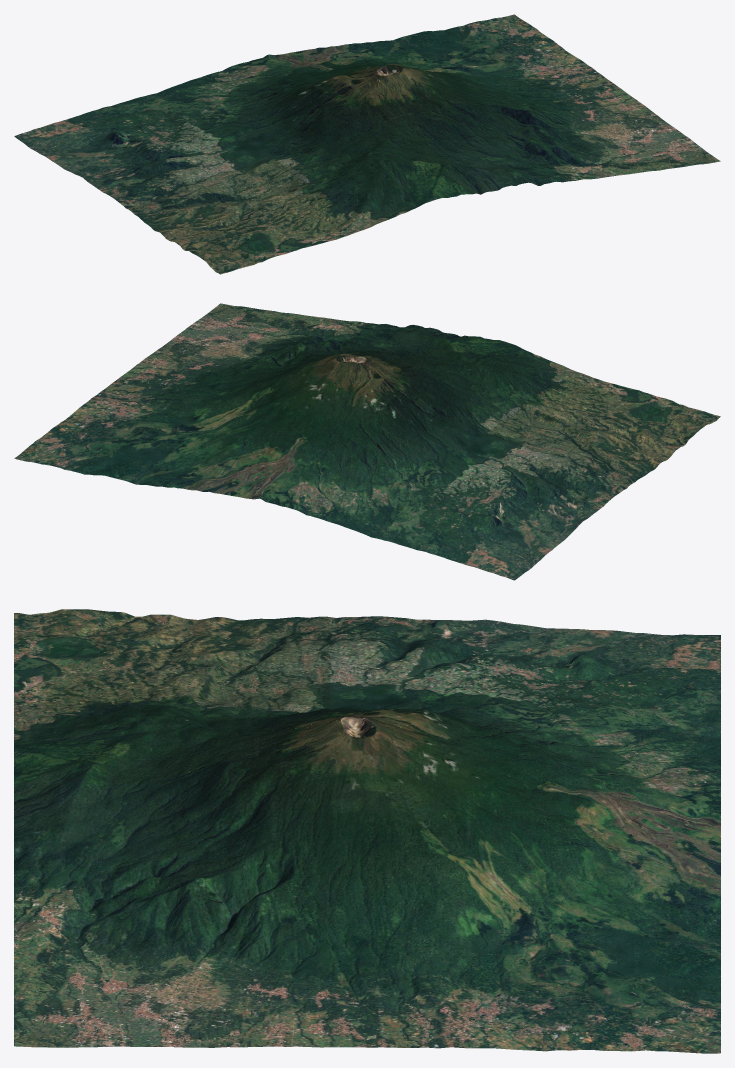
Rendered from mount-ceremai.glb.
3 renders of one model, top to bottom at view 1: azimuth 30°, elevation 25°; view 2: azimuth 150°, elevation 25°; view 3: azimuth 270°, elevation 25°, orthographic. The views are drawn at different scales.
Parts seen in each view (by area): view 1: EXPORT_GOOGLE_SAT_WM; view 2: EXPORT_GOOGLE_SAT_WM; view 3: EXPORT_GOOGLE_SAT_WM.
Part boxes in pixels (left/top/right/bottom): EXPORT_GOOGLE_SAT_WM: left=14, top=14, right=720, bottom=274; EXPORT_GOOGLE_SAT_WM: left=14, top=303, right=720, bottom=580; EXPORT_GOOGLE_SAT_WM: left=14, top=609, right=720, bottom=1053.
Bounding box in the file's own units: 2.94 × 0.4458 × 2.1.
1 material, 1 textured.
